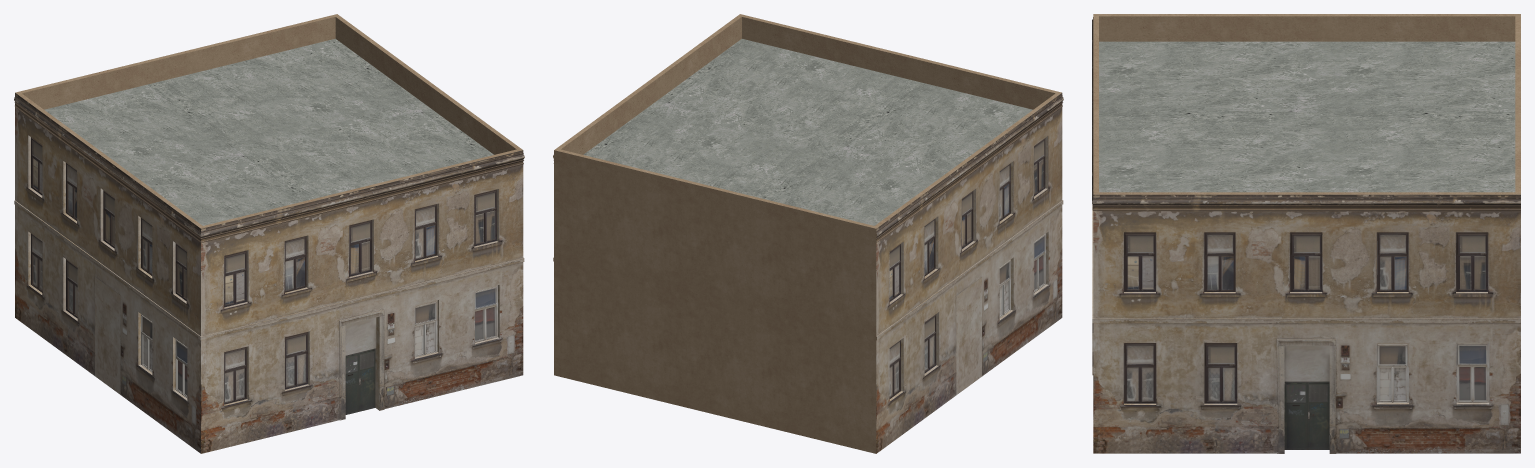
The model's file is Old_Building.FBX.
The picture shows the model from 3 angles, left to right: view 1: azimuth 30°, elevation 25°; view 2: azimuth 150°, elevation 25°; view 3: azimuth 270°, elevation 25°; orthographic projection. The views are drawn at different scales.
Visible parts, largest first — view 1: Old_Building_01; view 2: Old_Building_01; view 3: Old_Building_01.
Part boxes in pixels (x1=…): Old_Building_01: x1=14, y1=14, x2=524, y2=453; Old_Building_01: x1=553, y1=14, x2=1063, y2=453; Old_Building_01: x1=1092, y1=14, x2=1520, y2=453.
Bounding box in the file's own units: 465 × 309 × 463.
